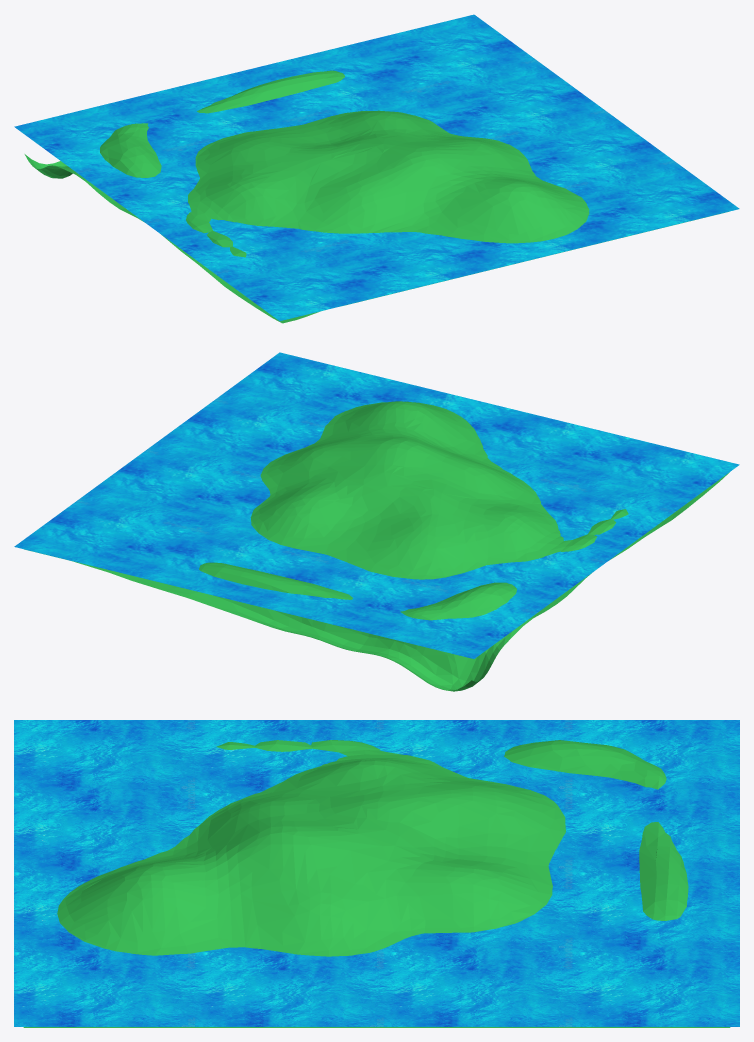
Rendered from island.obj.
3 views of the same model, one above another, from view 1: azimuth 30°, elevation 25°; view 2: azimuth 150°, elevation 25°; view 3: azimuth 270°, elevation 25° (orthographic). The views are drawn at different scales.
Visible parts, largest first — view 1: Plane, Plane.001; view 2: Plane, Plane.001; view 3: Plane, Plane.001.
Part boxes in pixels (bbox=[...]): Plane: bbox=[14, 14, 739, 320]; Plane.001: bbox=[24, 70, 728, 323]; Plane: bbox=[14, 352, 739, 658]; Plane.001: bbox=[24, 401, 729, 691]; Plane: bbox=[14, 720, 739, 1026]; Plane.001: bbox=[23, 740, 730, 1027].
Size of the model in its own units: 29.59 by 5.08 by 29.59.
